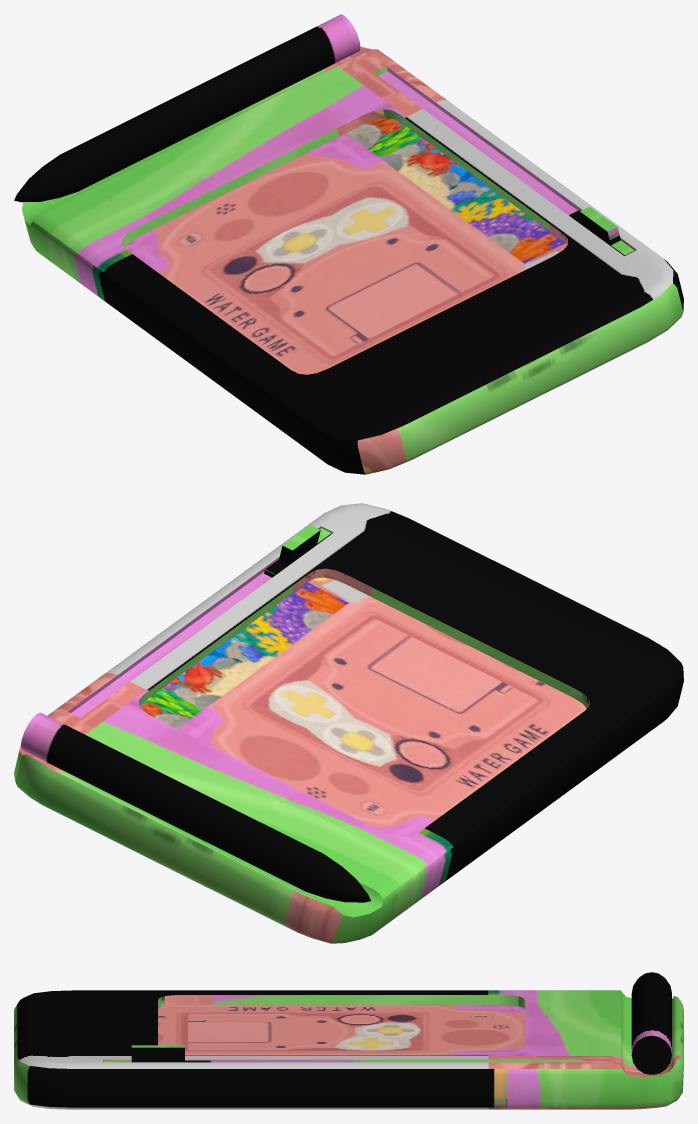
File: ref_gtdrawingboard.fbx
The picture shows the model from 3 angles, top to bottom: view 1: azimuth 30°, elevation 25°; view 2: azimuth 150°, elevation 25°; view 3: azimuth 270°, elevation 25°; orthographic projection. The views are drawn at different scales.
Parts seen in each view (by area): view 1: ref_gtdrawingboard; view 2: ref_gtdrawingboard; view 3: ref_gtdrawingboard.
Boxes of the visible parts, left/top/right/bottom form: ref_gtdrawingboard: left=14, top=14, right=683, bottom=474; ref_gtdrawingboard: left=14, top=503, right=683, bottom=943; ref_gtdrawingboard: left=14, top=972, right=683, bottom=1109.
Size of the model in its own units: 59.13 by 24.01 by 100.
